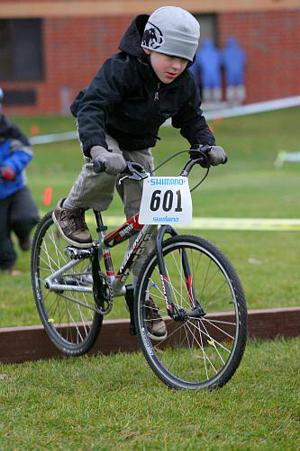person: (53, 6, 228, 342)
